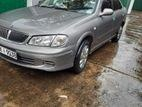car: (0, 0, 130, 73)
